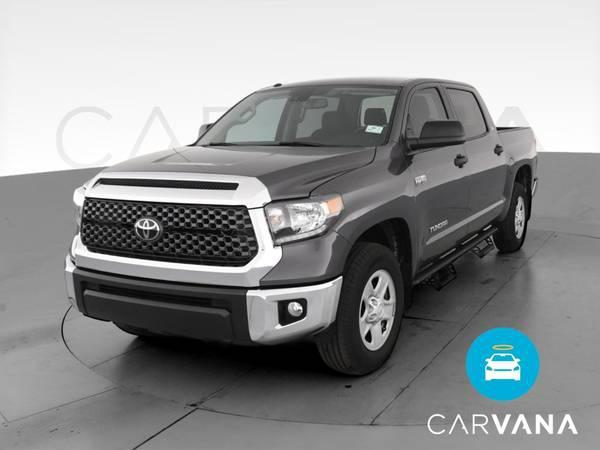Front_Bumper: (58, 228, 353, 344)
Front_Fender: (308, 143, 417, 275)
Front_Left_Door: (405, 146, 469, 269)
Front_Left_Window: (403, 86, 460, 157)
Front_Windshield: (187, 87, 394, 151)
Grille: (64, 193, 274, 284)
Hood: (76, 146, 373, 210)
Left_Headlight: (261, 194, 342, 245)
Rear_Fender: (496, 127, 536, 220)
Rear_Left_Door: (463, 135, 508, 239)
Rear_Left_Window: (443, 88, 491, 143)
Roof: (257, 76, 474, 144)
Wheel: (321, 240, 412, 380), (491, 187, 530, 256)
